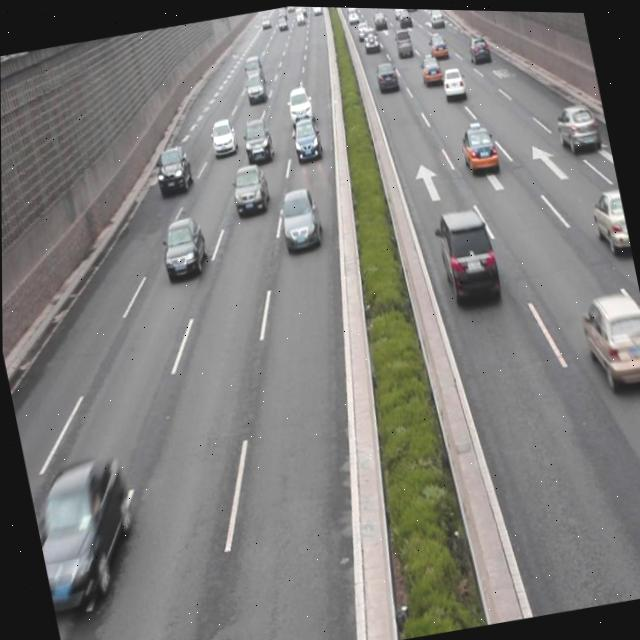car: (32, 458, 141, 609), (430, 203, 504, 311), (578, 286, 640, 400), (585, 183, 632, 258), (276, 187, 325, 252), (156, 215, 207, 276), (553, 98, 600, 152), (228, 161, 271, 218), (153, 144, 195, 196), (458, 122, 498, 173), (239, 115, 275, 165), (289, 116, 324, 164), (284, 83, 316, 130), (208, 116, 239, 157), (439, 65, 466, 98)
